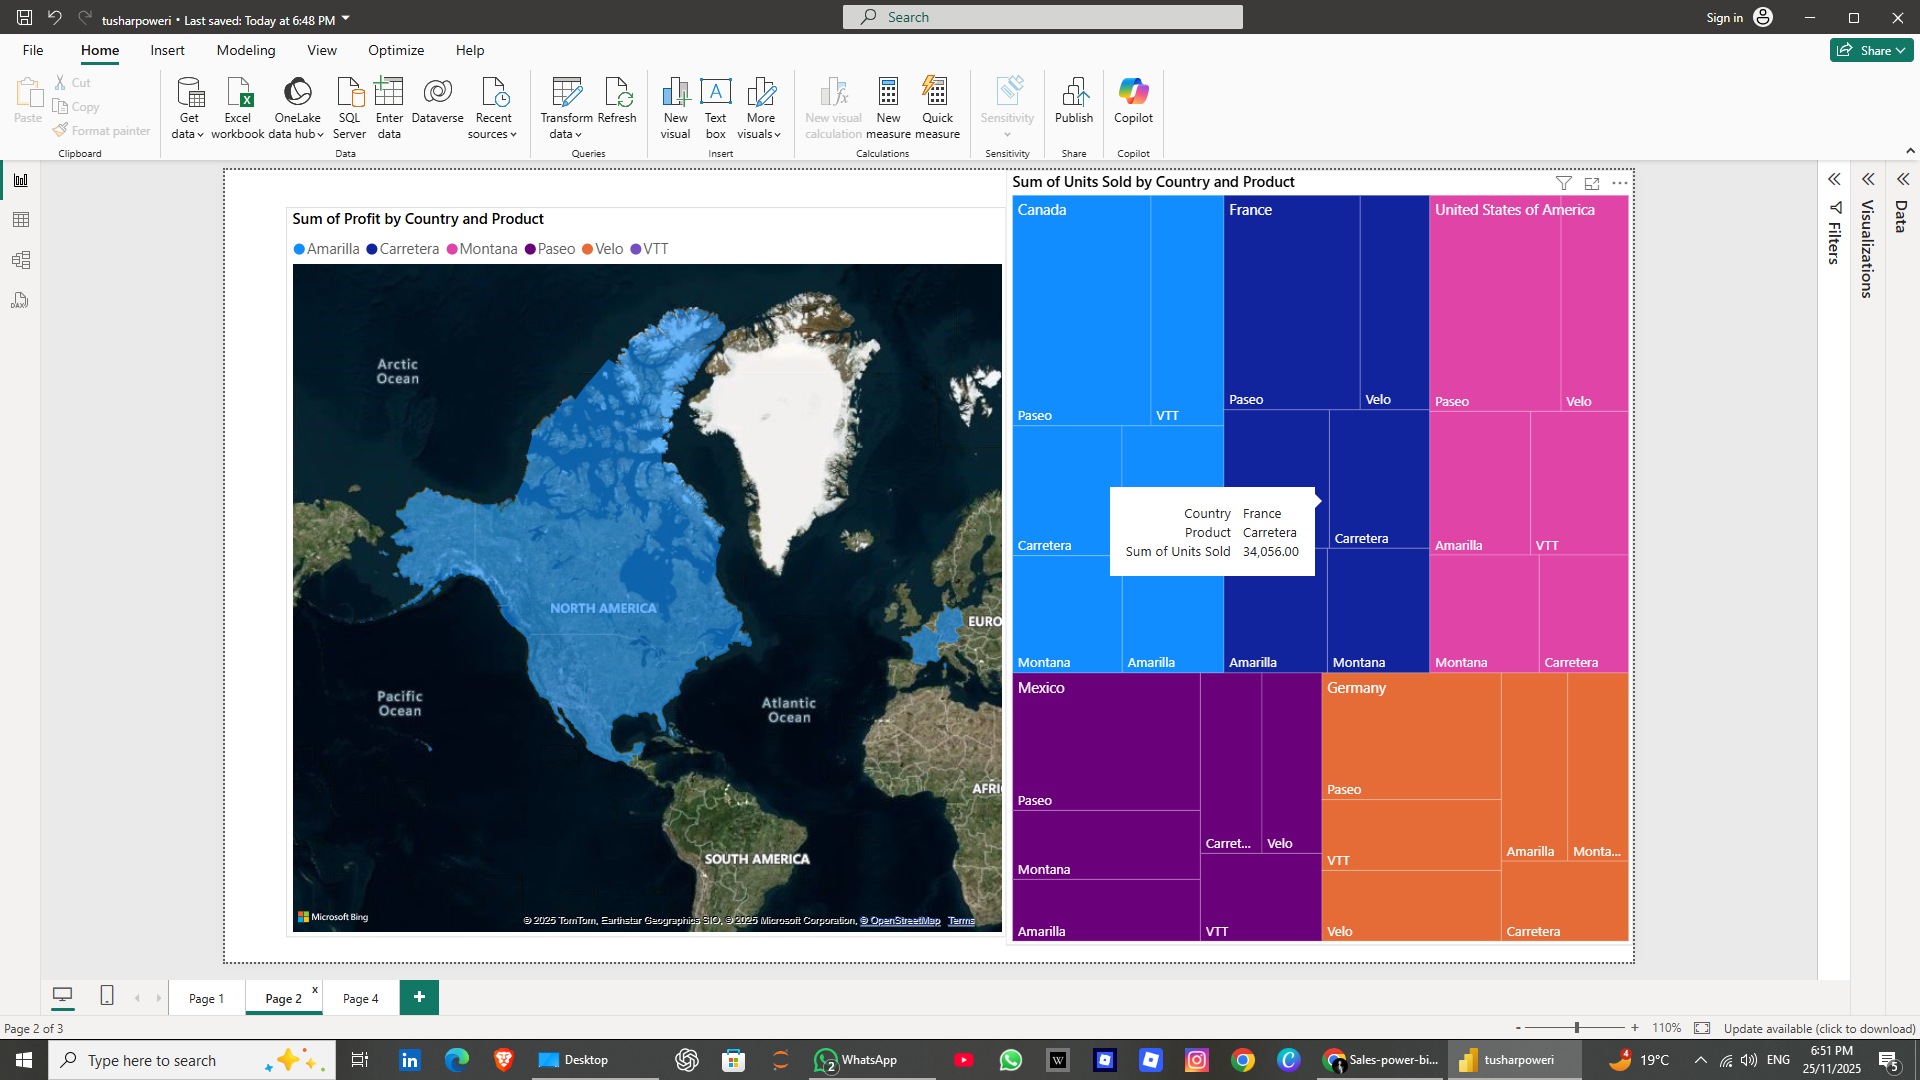

The page's visual inventory and layout, read from the dashboard file:
{"tool":"powerbi","page":{"name":"Page 2","canvas":[1280,720],"ordinal":1},"visuals":[{"type":"treemap","fields":{"Group":["financials.Country"],"Details":["financials.Product"],"Values":["Sum(financials.Units Sold)"]},"box":[710,0,570,705],"z":0},{"type":"filledMap","fields":{"Category":["financials.Country"],"Series":["financials.Product"]},"box":[95.7,207.1,450,410],"z":1000}]}

Visuals, with their boxes on the page's 1280x720 design canvas (x1, y1, x2, y2). These are canvas units, not pixel positions in the 1920x1080 screenshot, which may show the page scaled, cropped or inside an application window:
treemap - financials.Country x financials.Product: 710 0 1280 705
filledMap - financials.Country x financials.Product: 96 207 546 617
